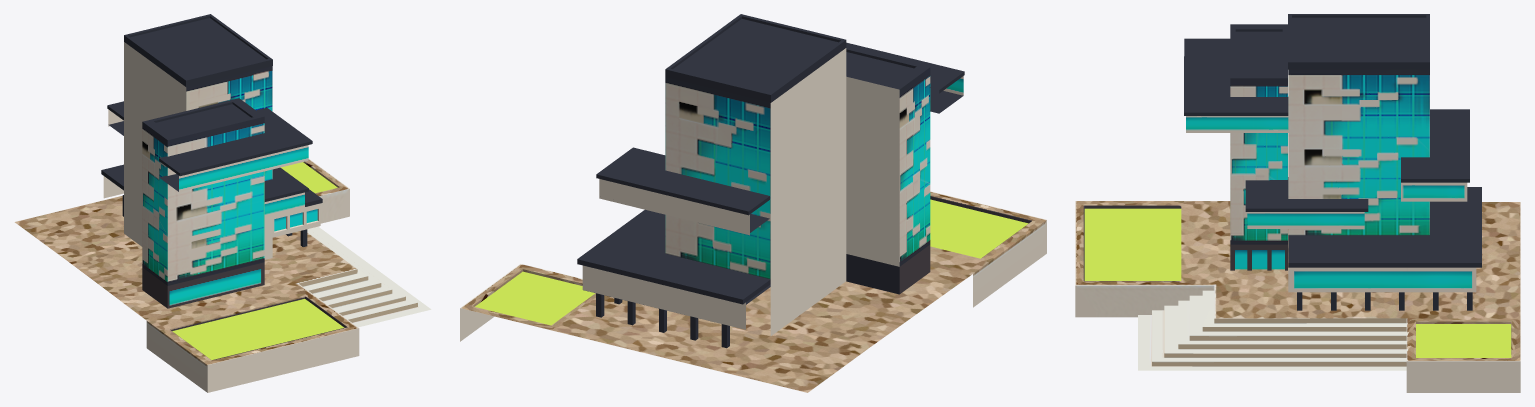
Rendered from Building 1.fbx.
The picture shows the model from 3 angles, left to right: view 1: azimuth 30°, elevation 25°; view 2: azimuth 150°, elevation 25°; view 3: azimuth 270°, elevation 25°; orthographic projection. The views are drawn at different scales.
Parts seen in each view (by area): view 1: Building, Floor; view 2: Building, Floor; view 3: Building, Floor.
Part boxes in pixels (x1,y1,x2,y2): Building: [101, 14, 322, 308]; Floor: [14, 159, 431, 392]; Building: [577, 14, 964, 348]; Floor: [460, 191, 1046, 392]; Building: [1184, 14, 1481, 310]; Floor: [1075, 201, 1520, 392].
Size of the model in its own units: 15.59 by 11.74 by 18.31.
